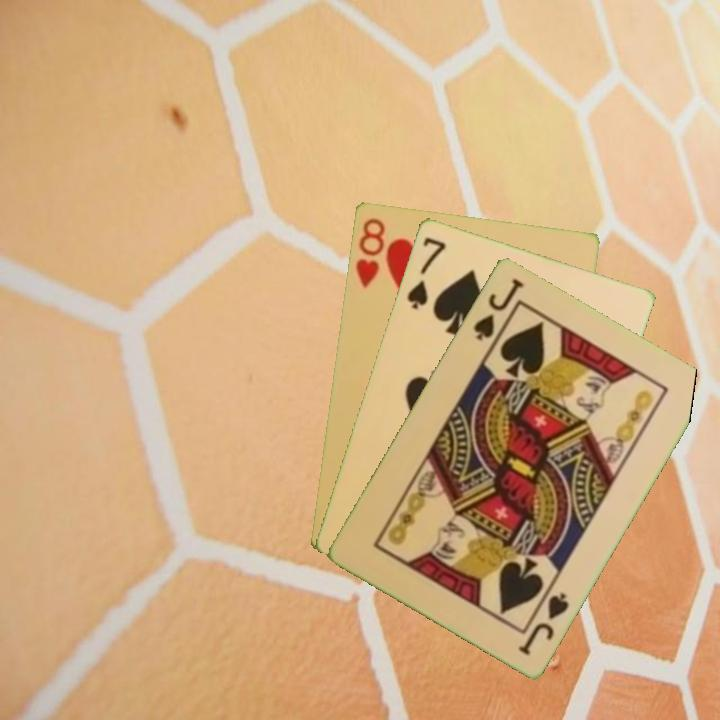7s: (403, 233, 449, 312)
8h: (351, 214, 388, 290)
Js: (514, 582, 572, 658), (469, 274, 526, 343)
